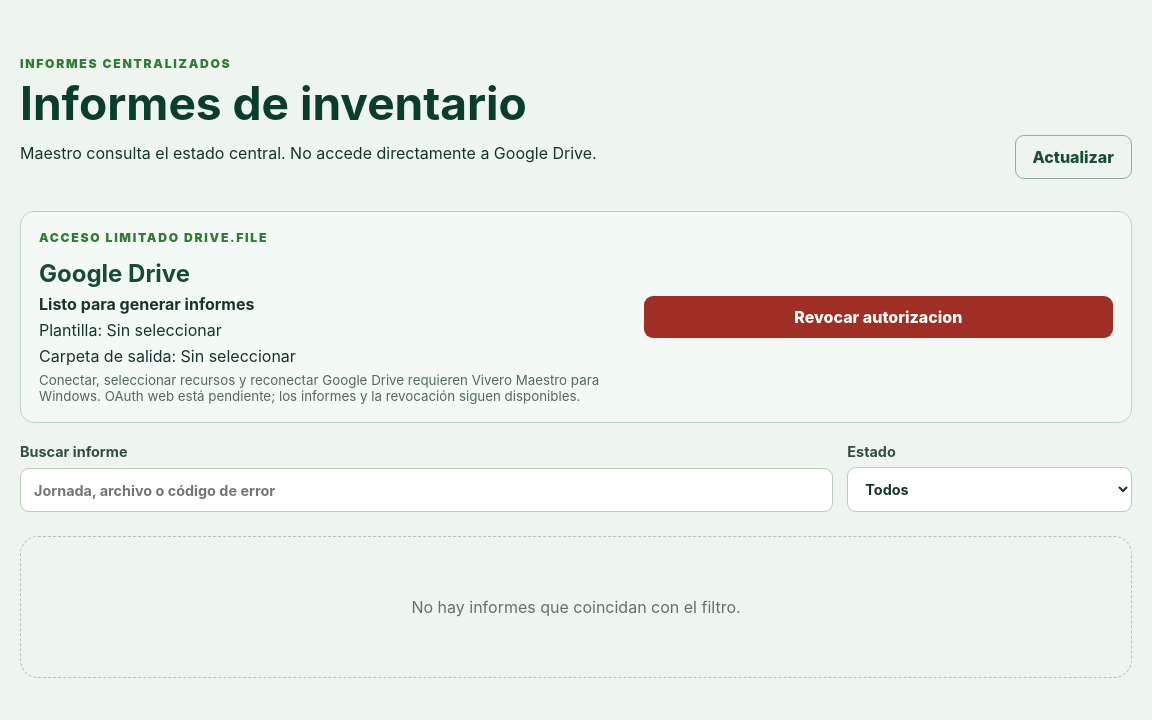
Test: Vivero Maestro Web › oculta OAuth desktop pero conserva estado y revocación confirmada
expect the text "Listo para generar informes" is shown: met, box x1=39 y1=294 x2=254 y2=314
expect the text "OAuth web está pendiente" is shown: met, box x1=39 y1=372 x2=599 y2=404
Step 1. Click the button "Revocar autorizacion" → (878, 317), box x1=644 y1=296 x2=1113 y2=338
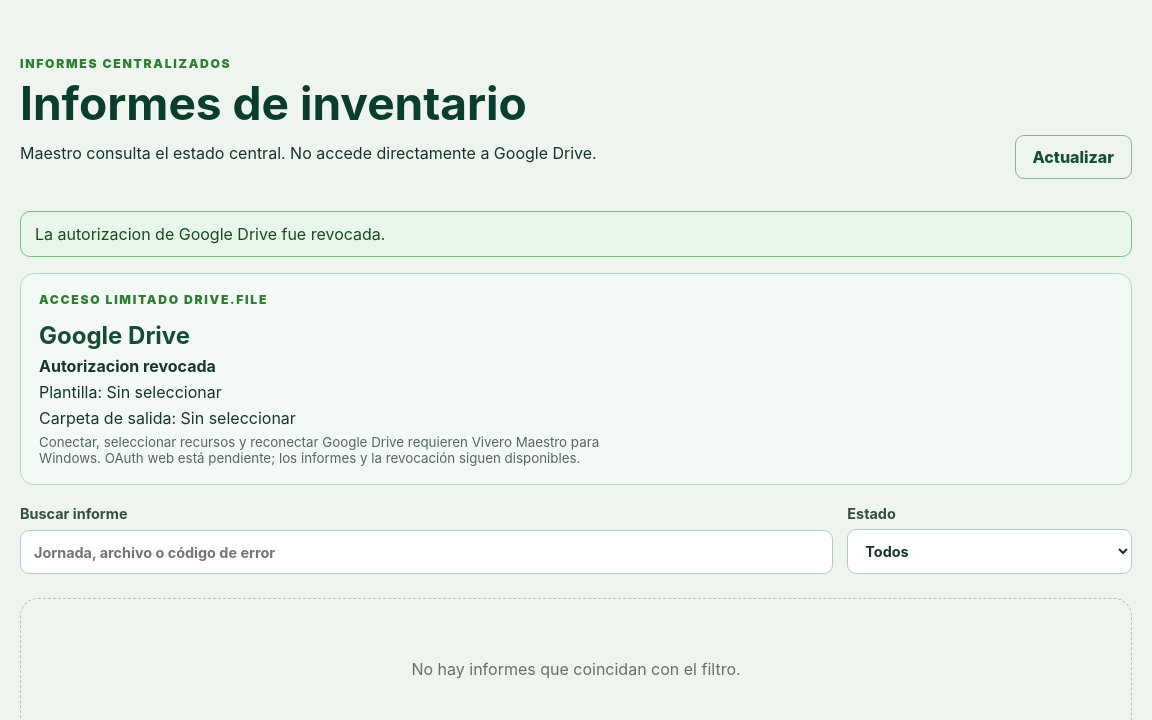
expect the text "Autorizacion revocada" is shown: met, box x1=39 y1=356 x2=216 y2=376
